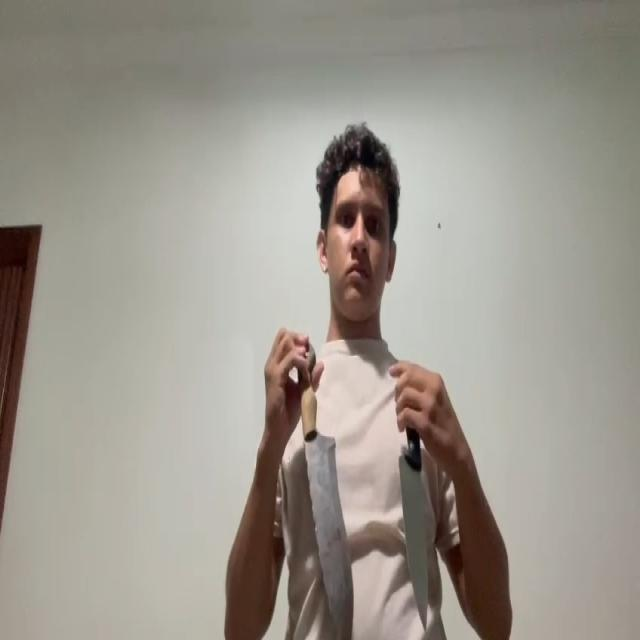knife: (305, 430, 354, 640), (400, 453, 430, 639)
